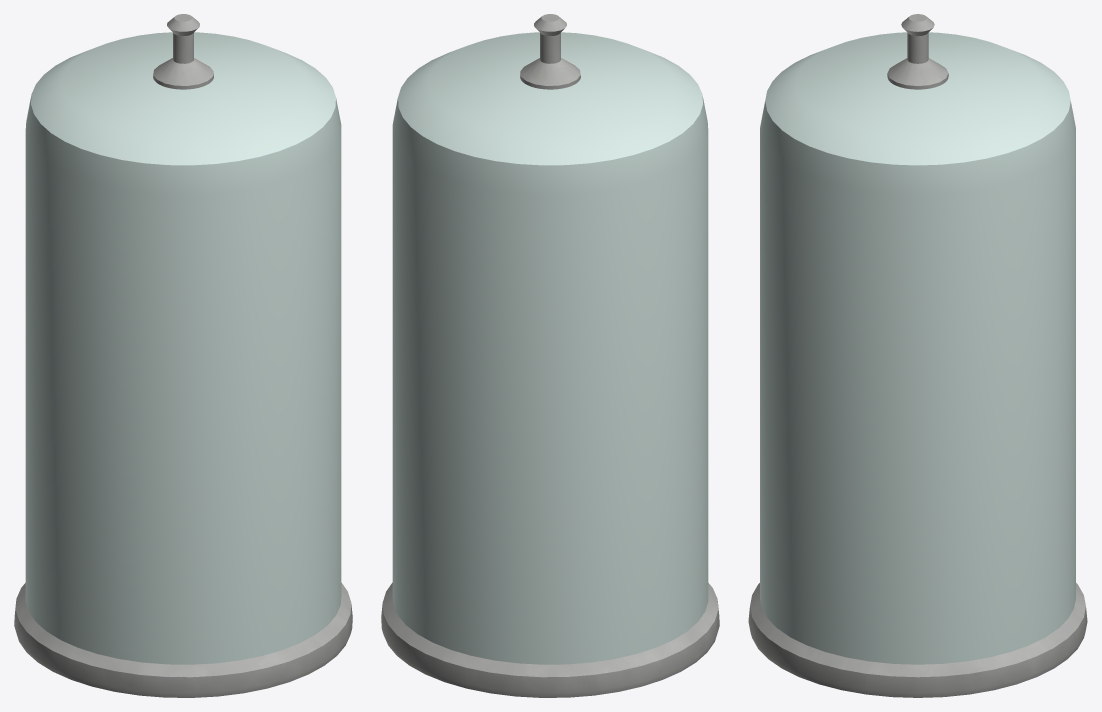
File: vitrine_tortas.glb
The picture shows the model from 3 angles, left to right: view 1: azimuth 30°, elevation 25°; view 2: azimuth 150°, elevation 25°; view 3: azimuth 270°, elevation 25°; orthographic projection.
Visible parts, largest first — view 1: vidro_cupula, vitrine; view 2: vidro_cupula, vitrine; view 3: vidro_cupula, vitrine.
Part boxes in pixels (<box>): vidro_cupula: <box>25,32,341,664</box>; vitrine: <box>14,14,352,697</box>; vidro_cupula: <box>392,32,708,664</box>; vitrine: <box>381,14,719,697</box>; vidro_cupula: <box>760,32,1075,664</box>; vitrine: <box>748,14,1087,697</box>.
Bounding box in the file's own units: 0.444 × 0.88 × 0.444.
Materials: 3 (1 with a texture image).
